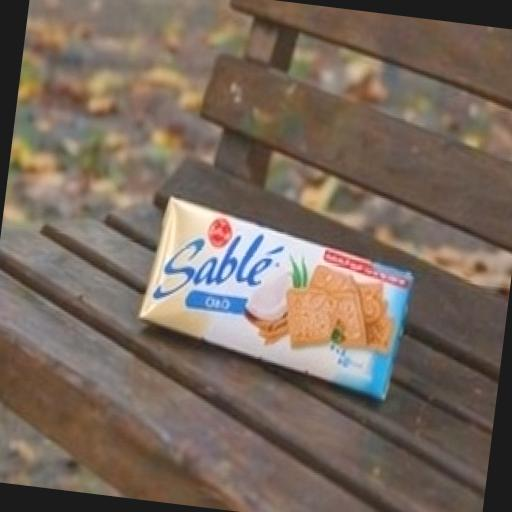sabl: (74, 158, 466, 476)
